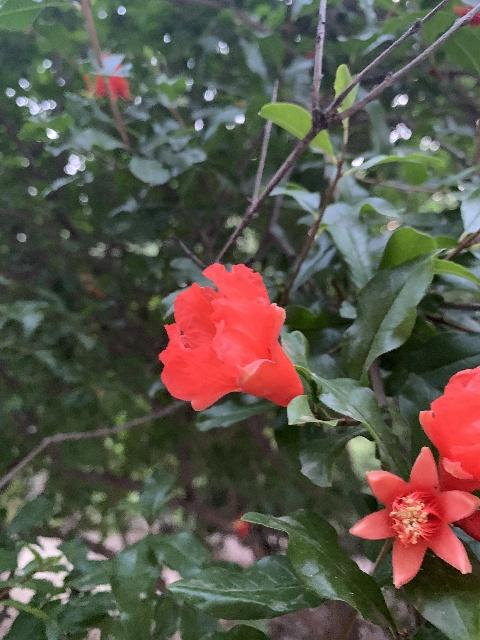flower: (156, 263, 303, 412), (348, 444, 479, 589), (419, 360, 480, 495)
